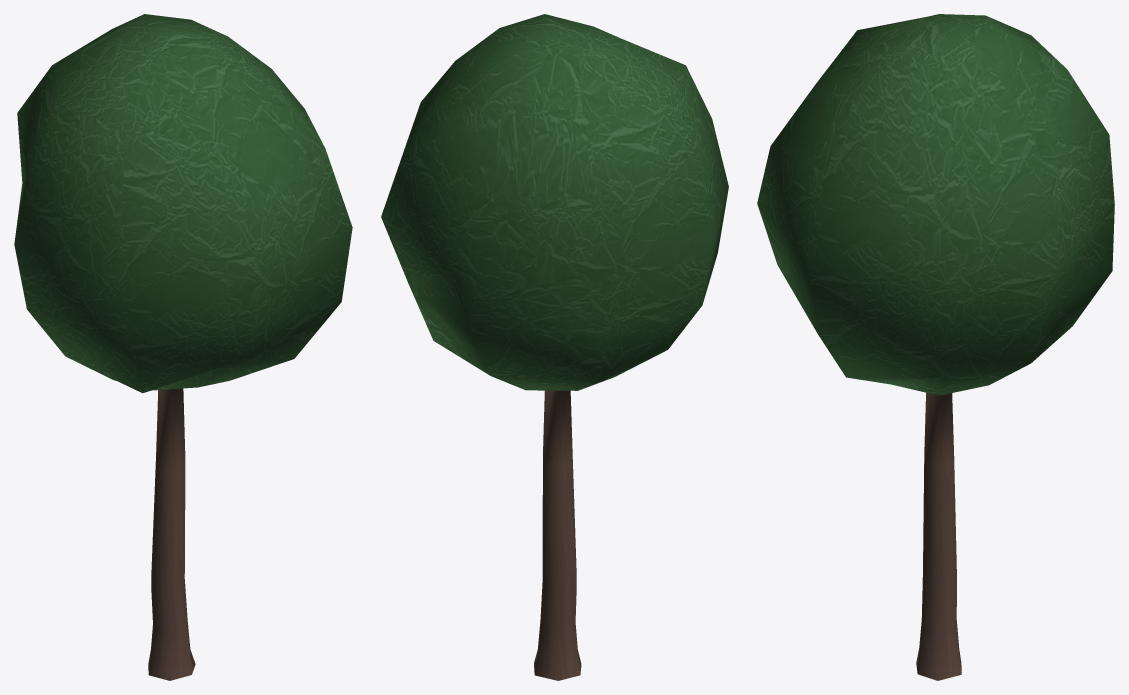
The model's file is Tree_Mid.fbx.
3 views of the same model, side by side, from view 1: azimuth 30°, elevation 25°; view 2: azimuth 150°, elevation 25°; view 3: azimuth 270°, elevation 25° (orthographic).
Parts seen in each view (by area): view 1: pCylinder2; view 2: pCylinder2; view 3: pCylinder2.
Boxes of the visible parts, <box> form: pCylinder2: <box>14,14,352,680</box>; pCylinder2: <box>381,14,728,680</box>; pCylinder2: <box>757,14,1114,680</box>.
Size of the model in its own units: 367 by 722 by 364.
Materials: 1 (1 with a texture image).
